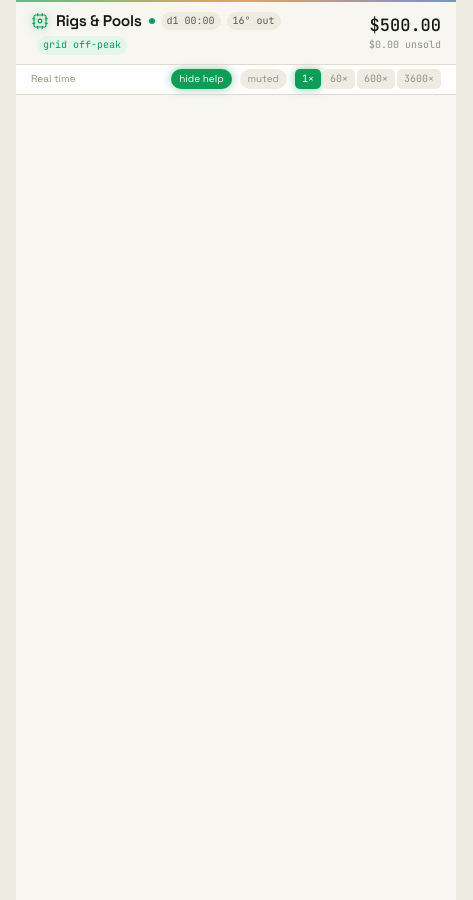
Test: TopBar › the help toggle flips its own label
The width and height of the screenshot is (473, 900).
Click the button with class "helptog" at (201, 79), box [171,69,232,90]
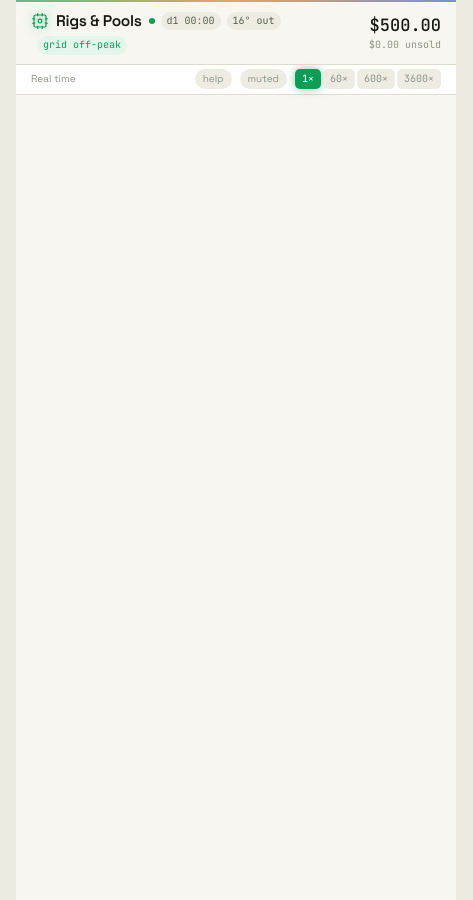
Expected: the button with class "helptog" reads "help", [195,69,232,90]
